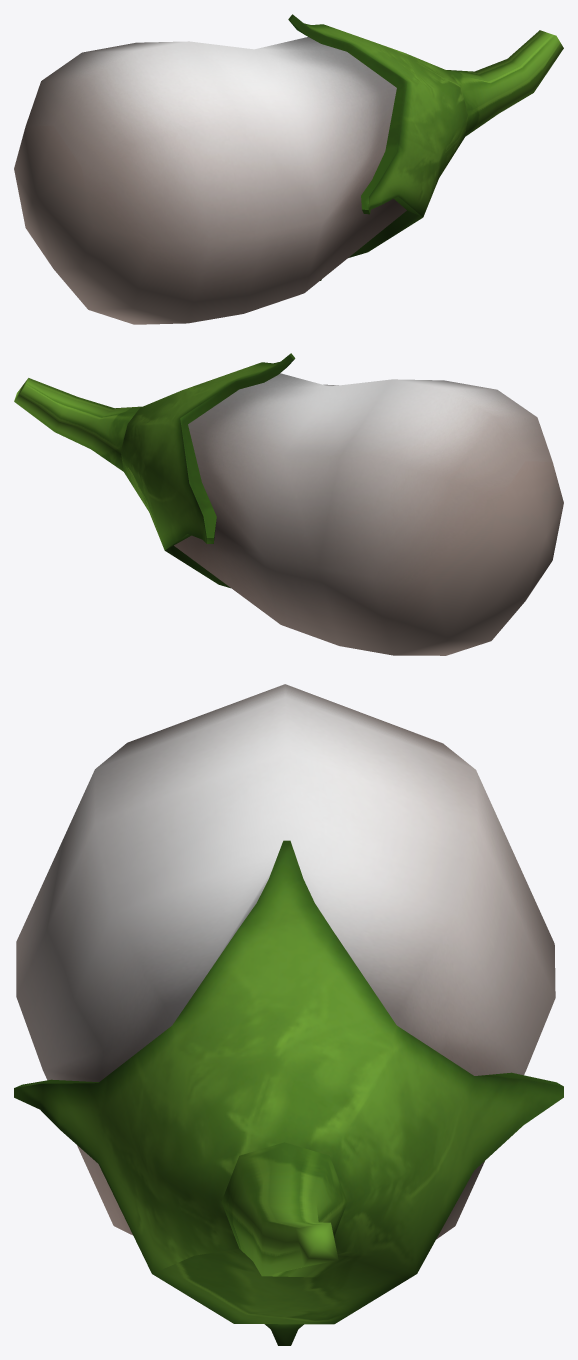
Rendered from Eggplant_White.fbx.
3 renders of one model, top to bottom at view 1: azimuth 30°, elevation 25°; view 2: azimuth 150°, elevation 25°; view 3: azimuth 270°, elevation 25°, orthographic. The views are drawn at different scales.
Visible parts, largest first — view 1: Eggplant_White; view 2: Eggplant_White; view 3: Eggplant_White.
Boxes of the visible parts, x1,y1,x2,y2 form: Eggplant_White: [14, 14, 563, 324]; Eggplant_White: [14, 353, 563, 655]; Eggplant_White: [14, 684, 563, 1345].
Bounding box in the file's own units: 59.65 × 29.46 × 29.61.
